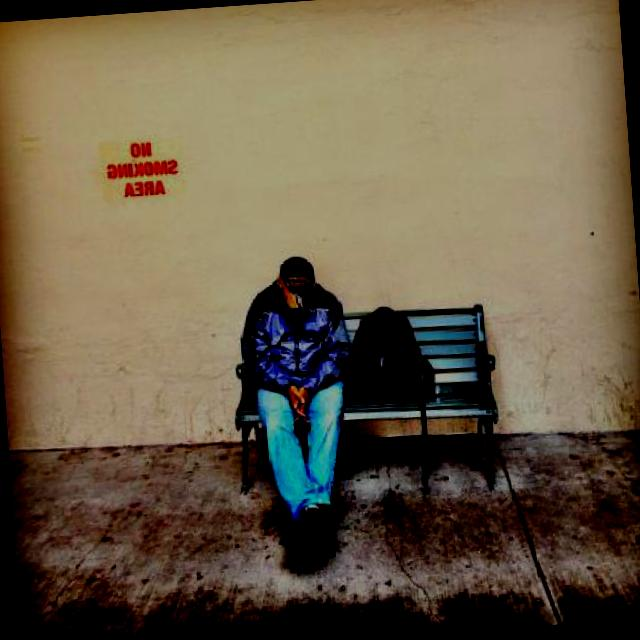Person: (231, 255, 367, 576)
